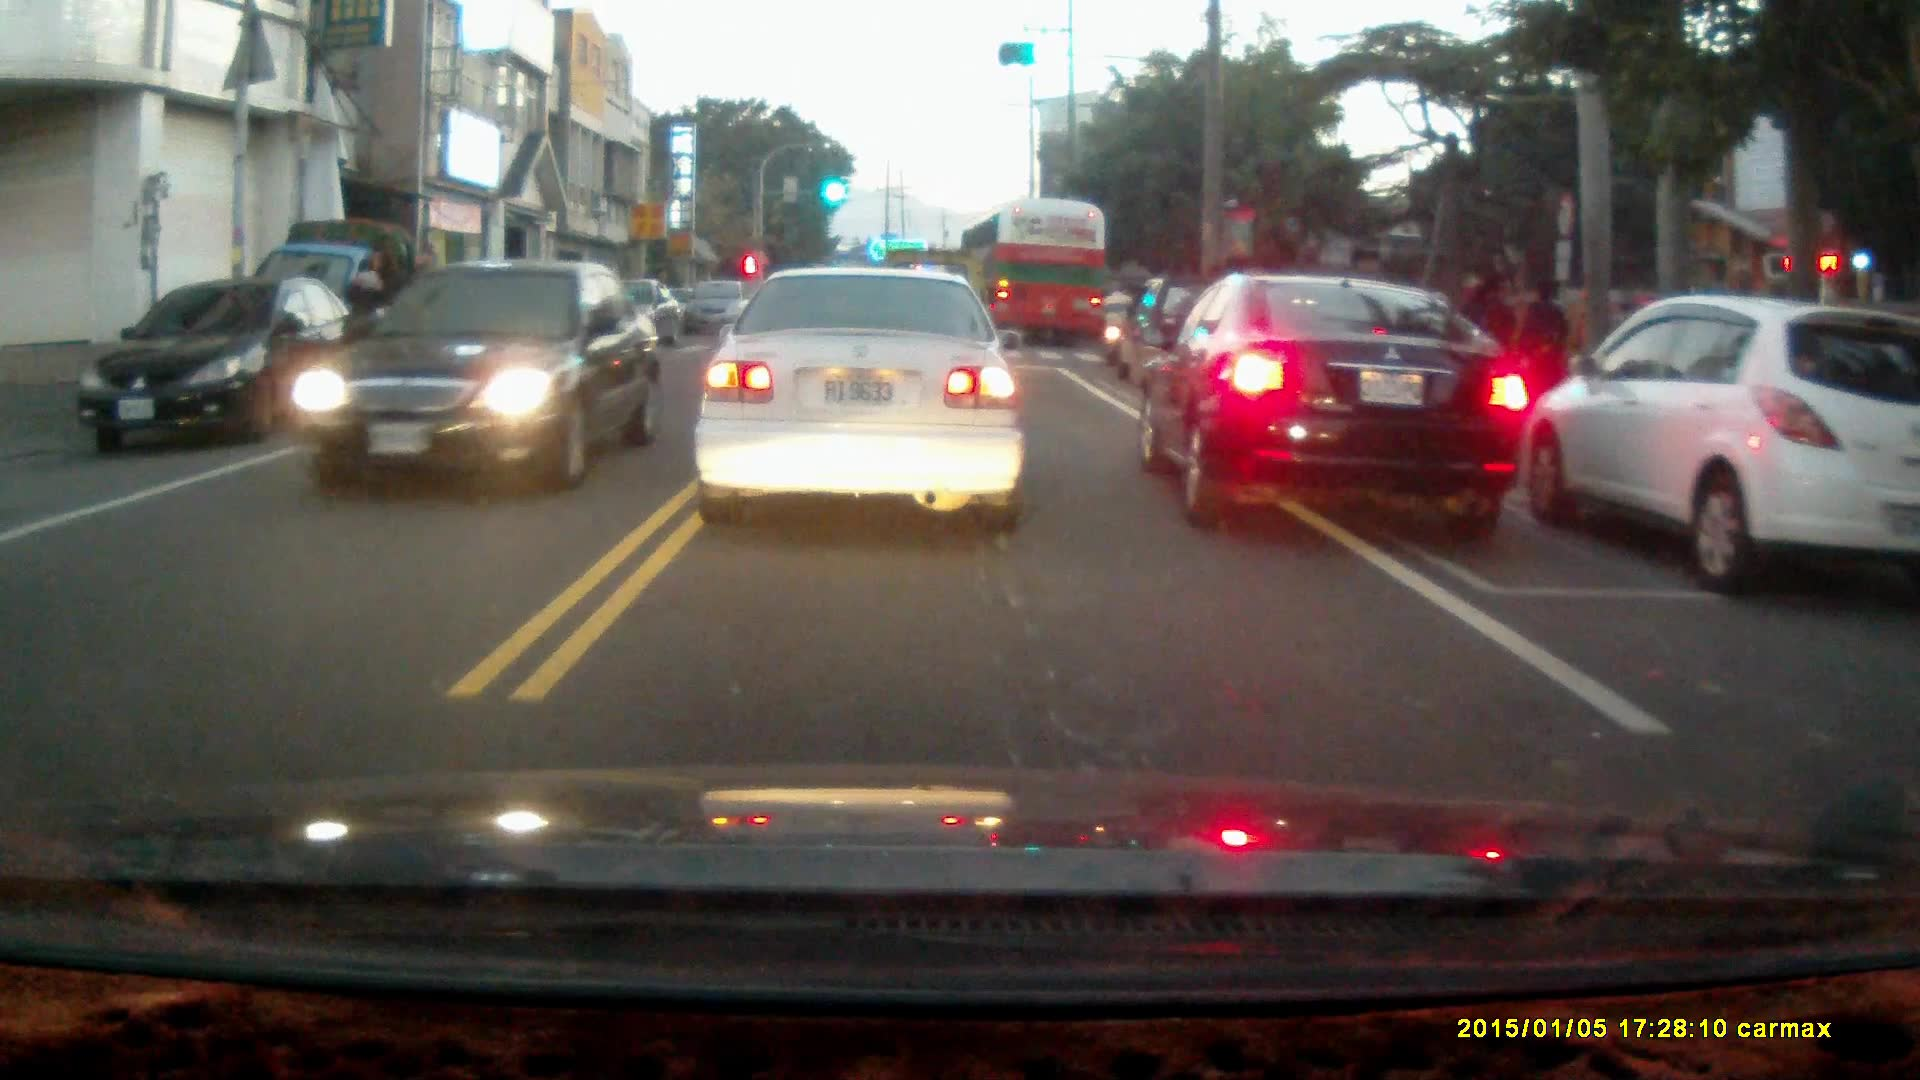pedestrian: (345, 246, 399, 400), (1517, 277, 1571, 411), (1462, 274, 1508, 401)
rider: (1097, 283, 1137, 364)
vehicle: (1510, 292, 1920, 601), (1141, 274, 1533, 535), (691, 263, 1028, 535), (291, 258, 665, 490), (77, 275, 353, 452), (237, 223, 459, 401), (961, 205, 1106, 353)
